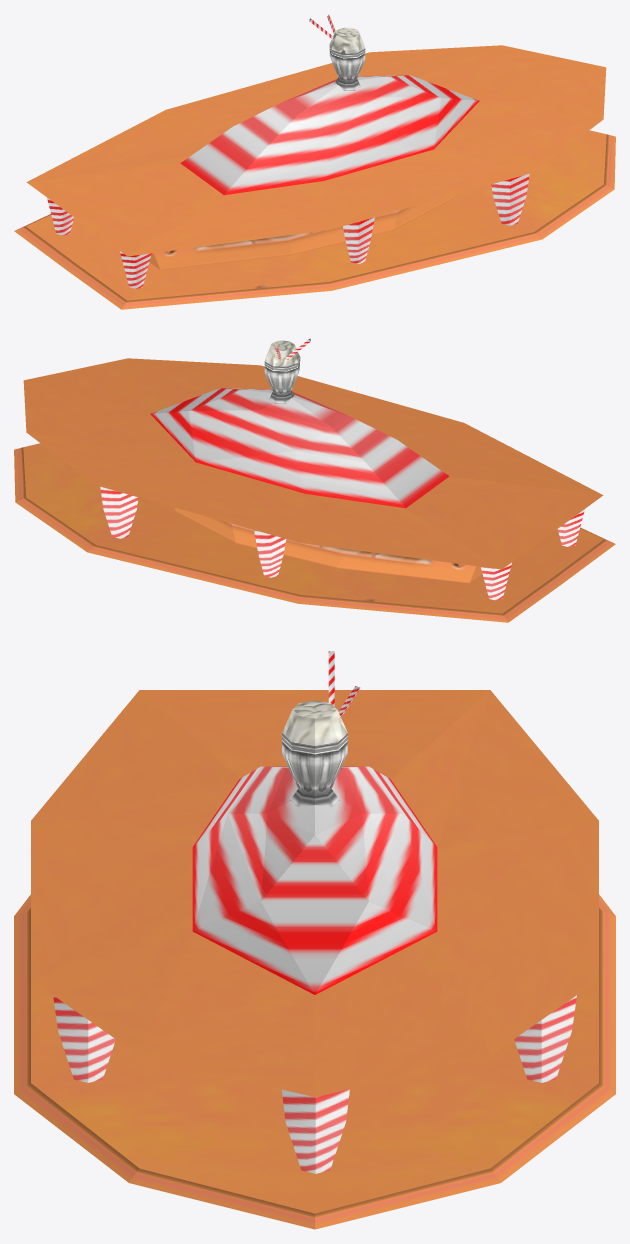
Rendered from candybar.glb.
3 renders of one model, top to bottom at view 1: azimuth 30°, elevation 25°; view 2: azimuth 150°, elevation 25°; view 3: azimuth 270°, elevation 25°, orthographic. The views are drawn at different scales.
Parts seen in each view (by area): view 1: candybar; view 2: candybar; view 3: candybar.
Part boxes in pixels (x1,y1,x2,y2): candybar: (14,14,615,309); candybar: (14,338,615,622); candybar: (14,651,615,1229).
Size of the model in its own units: 4196 by 1370 by 2303.
Materials: 3 (3 with a texture image).
